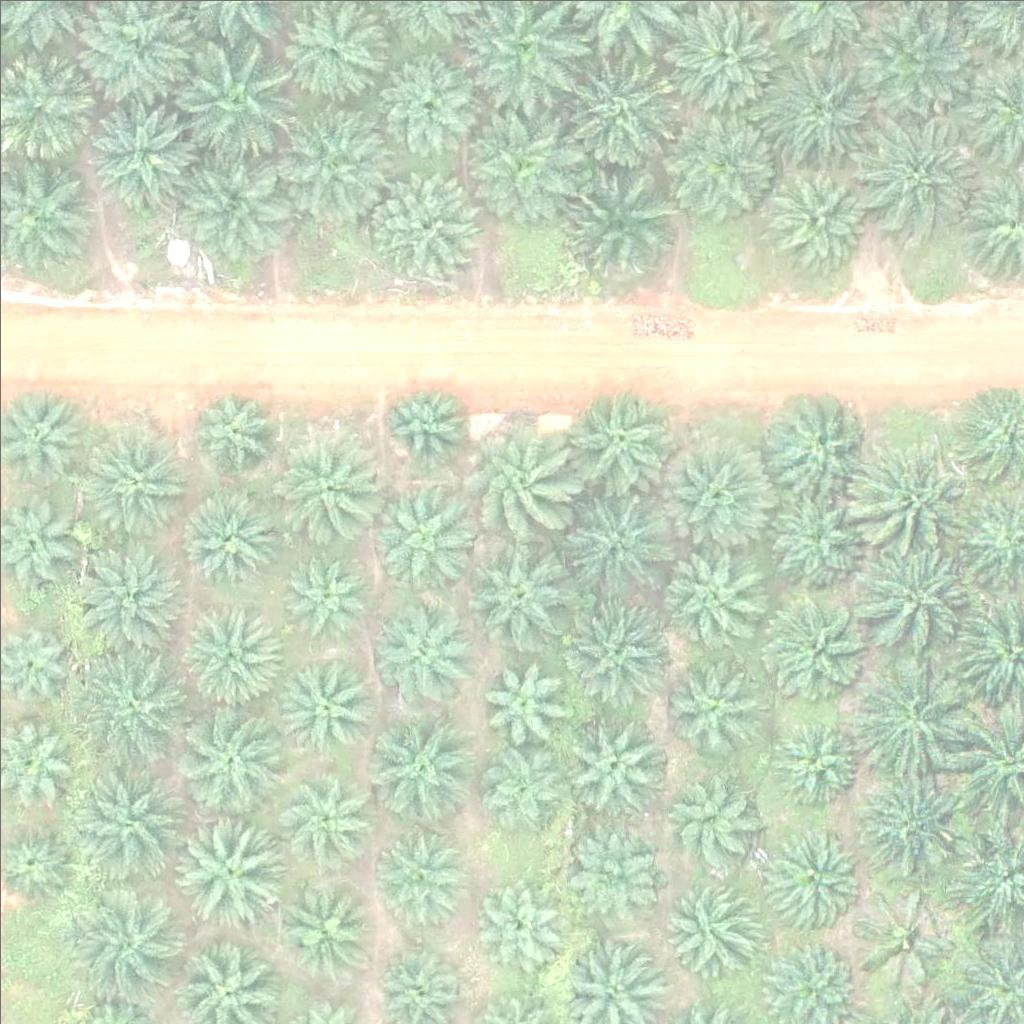Kelapa_Sawit: (453, 412, 578, 538), (81, 95, 194, 209), (67, 764, 180, 878), (175, 45, 288, 158), (368, 164, 481, 277), (470, 103, 583, 216), (667, 107, 780, 220), (666, 3, 779, 116), (769, 48, 882, 161), (855, 2, 968, 115), (177, 809, 290, 922), (561, 588, 674, 701), (561, 487, 674, 600), (565, 380, 678, 493), (860, 543, 973, 656), (857, 772, 970, 885), (272, 106, 384, 220), (80, 423, 192, 537), (858, 657, 970, 771), (178, 144, 290, 257), (559, 167, 671, 280), (566, 56, 678, 169), (862, 114, 974, 227), (65, 886, 177, 999), (77, 646, 189, 759), (69, 534, 181, 647), (175, 702, 287, 815), (265, 428, 377, 541), (466, 536, 578, 649), (657, 432, 769, 545), (763, 386, 875, 499), (858, 438, 970, 551), (282, 3, 382, 104), (380, 62, 480, 163), (772, 166, 872, 267), (176, 488, 276, 589), (273, 880, 373, 981), (271, 763, 371, 864), (275, 652, 375, 753), (370, 831, 470, 932), (371, 712, 471, 813), (374, 603, 474, 704), (558, 707, 658, 808), (665, 874, 765, 975), (660, 774, 760, 875), (664, 542, 764, 643), (762, 823, 862, 924), (763, 597, 863, 698), (177, 606, 277, 706), (369, 481, 469, 581), (566, 825, 666, 925), (762, 496, 862, 596), (850, 889, 950, 989), (187, 378, 275, 466), (772, 711, 860, 799), (276, 549, 363, 638), (381, 378, 468, 466), (477, 883, 564, 971), (477, 742, 564, 830), (480, 654, 567, 742), (669, 659, 756, 747)
